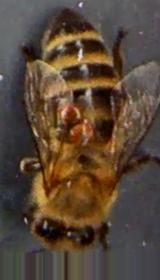varroa_mite: (54, 94, 90, 122), (62, 117, 100, 141)
